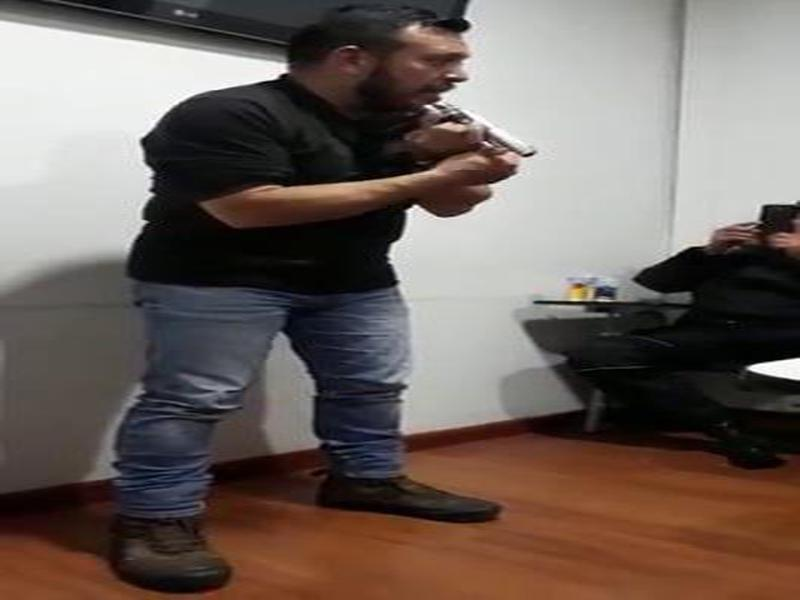Revolver: (388, 85, 543, 186)
